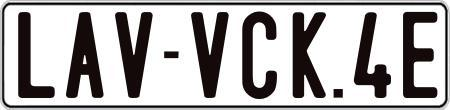4: (353, 12, 392, 98)
A: (66, 11, 104, 100)
C: (239, 9, 278, 98)
E: (401, 9, 434, 96)
K: (292, 10, 331, 96)
L: (18, 12, 60, 102)
V: (114, 10, 153, 100), (191, 11, 230, 101)
